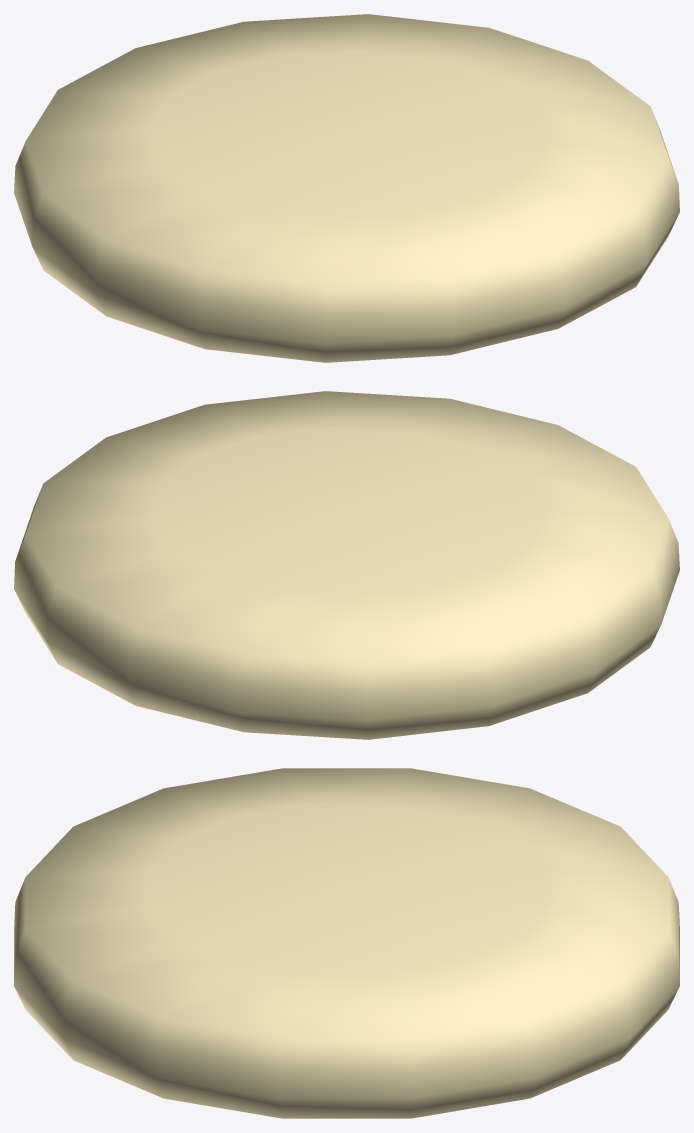
File: candy_assets42.fbx
3 views of the same model, one above another, from view 1: azimuth 30°, elevation 25°; view 2: azimuth 150°, elevation 25°; view 3: azimuth 270°, elevation 25° (orthographic). The views are drawn at different scales.
Visible parts, largest first — view 1: candy_assets42; view 2: candy_assets42; view 3: candy_assets42.
Boxes of the visible parts, box(x1,y1,x2,y2) form: candy_assets42: box(14, 14, 679, 362); candy_assets42: box(14, 391, 679, 739); candy_assets42: box(14, 768, 679, 1118).
Size of the model in its own units: 335 by 65.75 by 335.
Materials: 1 (1 with a texture image).
